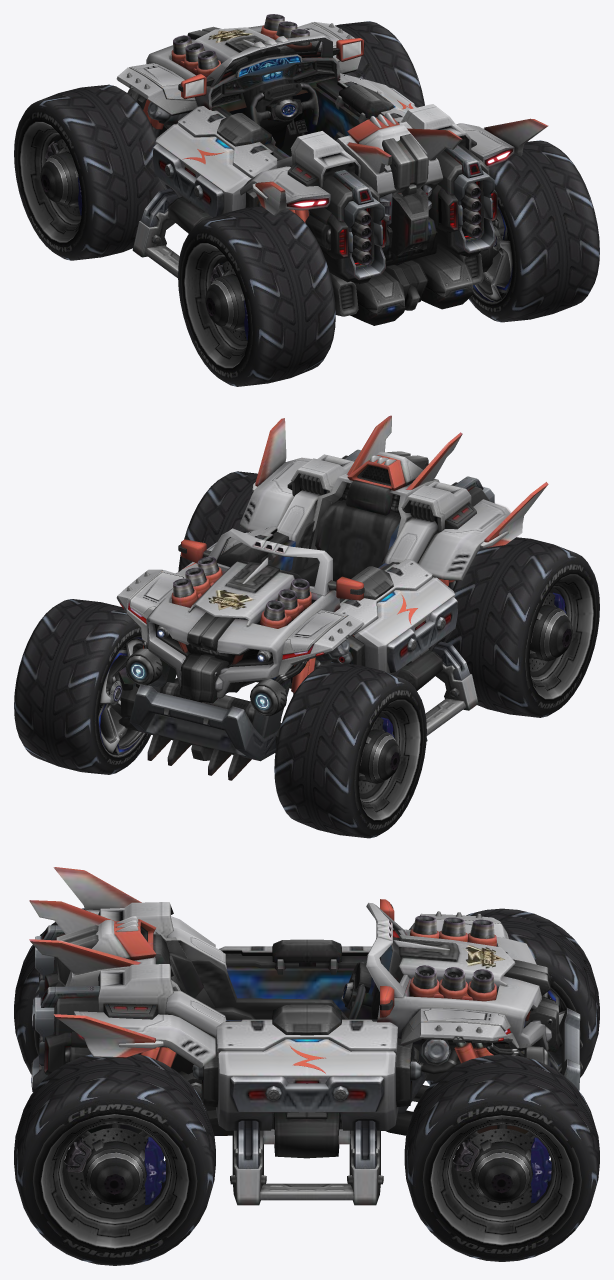
3 renders of one model, top to bottom at view 1: azimuth 30°, elevation 25°; view 2: azimuth 150°, elevation 25°; view 3: azimuth 270°, elevation 25°, orthographic. The views are drawn at different scales.
Parts seen in each view (by area): view 1: body, wheel_rl, wheel_fl, wheel_rr, wheel_fr; view 2: body, wheel_fl, wheel_rl, wheel_fr, wheel_rr; view 3: body, wheel_rr, wheel_fr, wheel_fl, wheel_rl.
Part boxes in pixels (<box>): body: <box>116,14,548,325</box>; wheel_rl: <box>178,206,335,386</box>; wheel_fl: <box>14,84,164,260</box>; wheel_rr: <box>469,140,599,322</box>; wheel_fr: <box>335,21,424,107</box>; body: <box>116,415,548,780</box>; wheel_fl: <box>274,662,426,838</box>; wheel_rl: <box>446,537,599,717</box>; wheel_fr: <box>14,599,150,774</box>; wheel_rr: <box>178,471,257,571</box>; body: <box>29,867,582,1205</box>; wheel_rr: <box>14,1054,215,1265</box>; wheel_fr: <box>404,1054,599,1261</box>; wheel_fl: <box>426,908,599,1084</box>; wheel_rl: <box>14,908,84,1074</box>.
Size of the model in its own units: 2.84 by 1.69 by 3.51.
4 materials, 4 textured.
